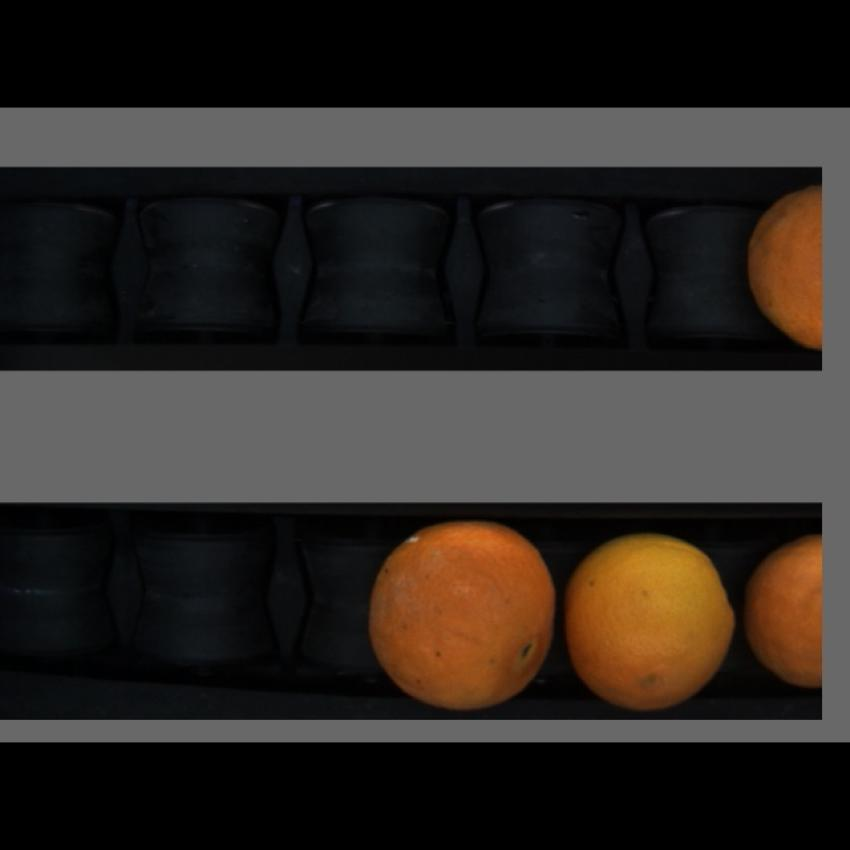Buen estado: (565, 529, 735, 712)
Mal estado: (367, 516, 558, 714), (743, 178, 822, 358), (746, 532, 824, 695)
